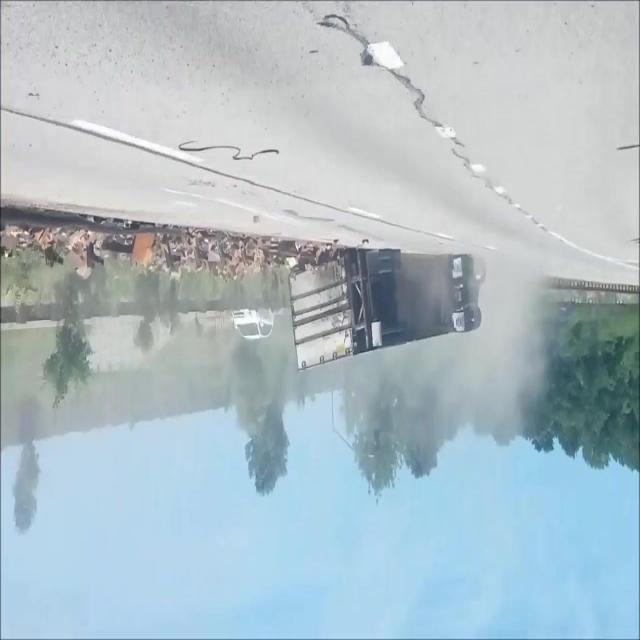severe: (286, 246, 485, 380)
